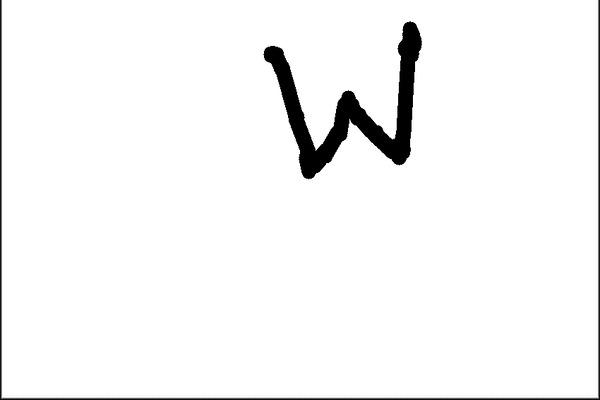w: (253, 16, 442, 185)
